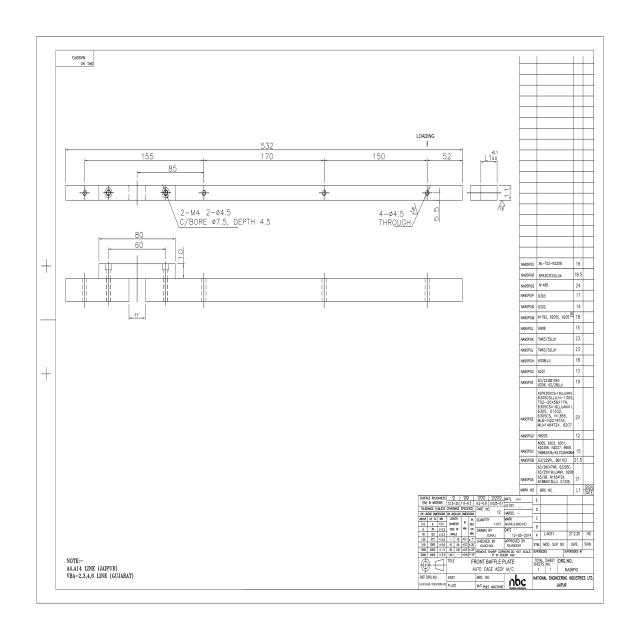dimension: (65, 140, 464, 154), (178, 208, 270, 228), (85, 152, 205, 164), (203, 152, 325, 163), (322, 152, 428, 163), (99, 230, 176, 242), (137, 165, 206, 176), (108, 241, 167, 253), (378, 210, 412, 228), (426, 152, 464, 163), (432, 186, 442, 224), (480, 150, 499, 164), (177, 247, 185, 280), (503, 183, 512, 203), (128, 311, 147, 320)
